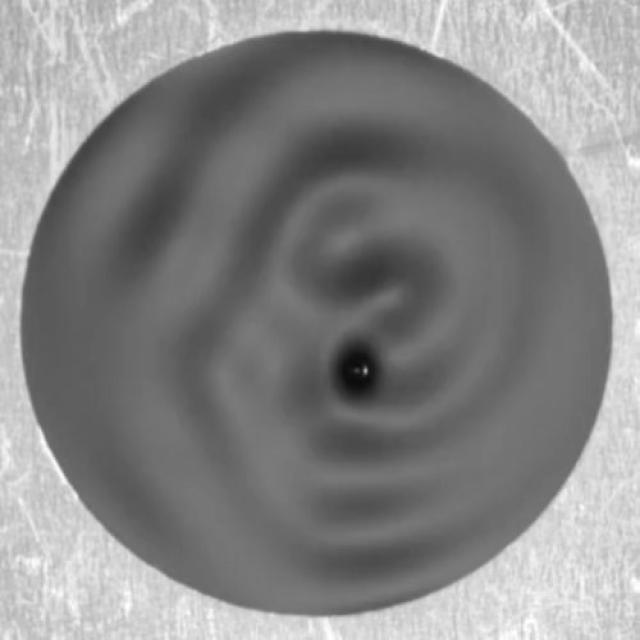droplet: (341, 350, 378, 397)
